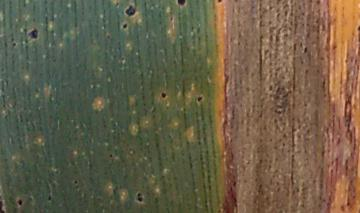tarspot: (123, 3, 137, 17), (27, 28, 38, 41), (135, 191, 144, 203), (158, 91, 168, 100), (356, 23, 360, 43), (175, 1, 188, 7), (1, 199, 6, 213), (121, 22, 129, 30), (15, 198, 24, 205), (302, 46, 309, 54), (47, 192, 52, 202), (196, 95, 203, 102), (108, 152, 114, 159), (11, 41, 17, 48), (168, 15, 174, 22), (71, 179, 79, 184), (314, 1, 323, 5), (215, 1, 224, 4), (233, 1, 237, 3)
